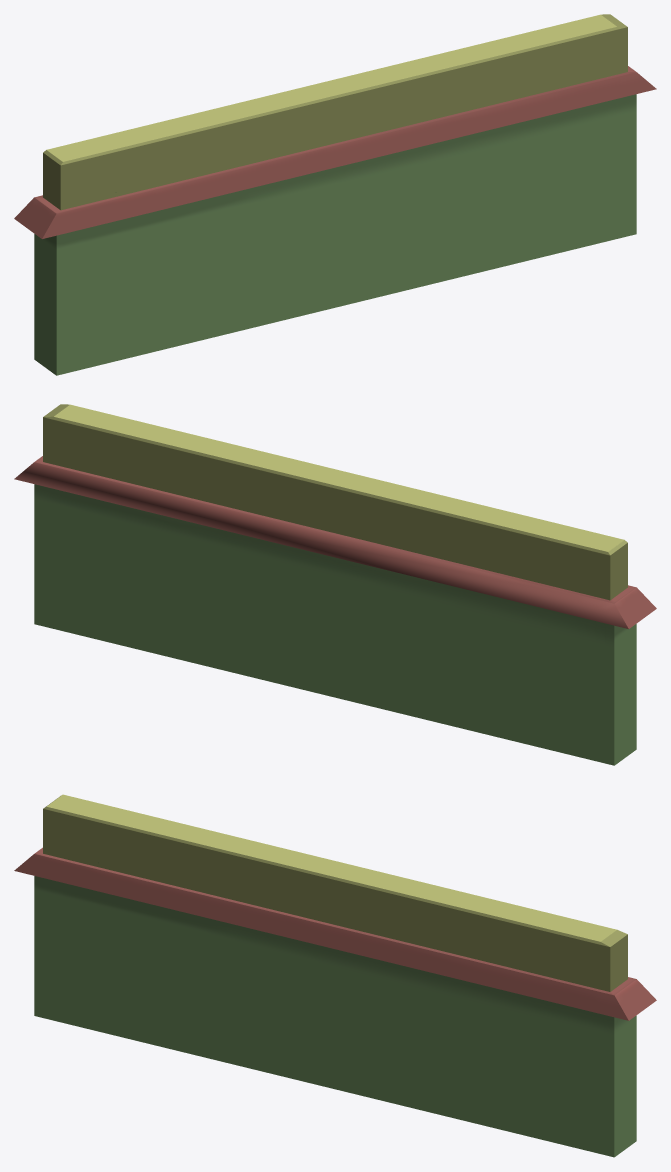
Rendered from build_medium1.fbx.
3 renders of one model, top to bottom at view 1: azimuth 30°, elevation 25°; view 2: azimuth 150°, elevation 25°; view 3: azimuth 330°, elevation 25°, orthographic.
Parts seen in each view (by area): view 1: build_medium1; view 2: build_medium1; view 3: build_medium1.
Boxes of the visible parts, left/top/right/bottom form: build_medium1: left=14, top=14, right=656, bottom=375; build_medium1: left=14, top=404, right=656, bottom=765; build_medium1: left=14, top=794, right=656, bottom=1157.
Size of the model in its own units: 6365 by 2071 by 503.
